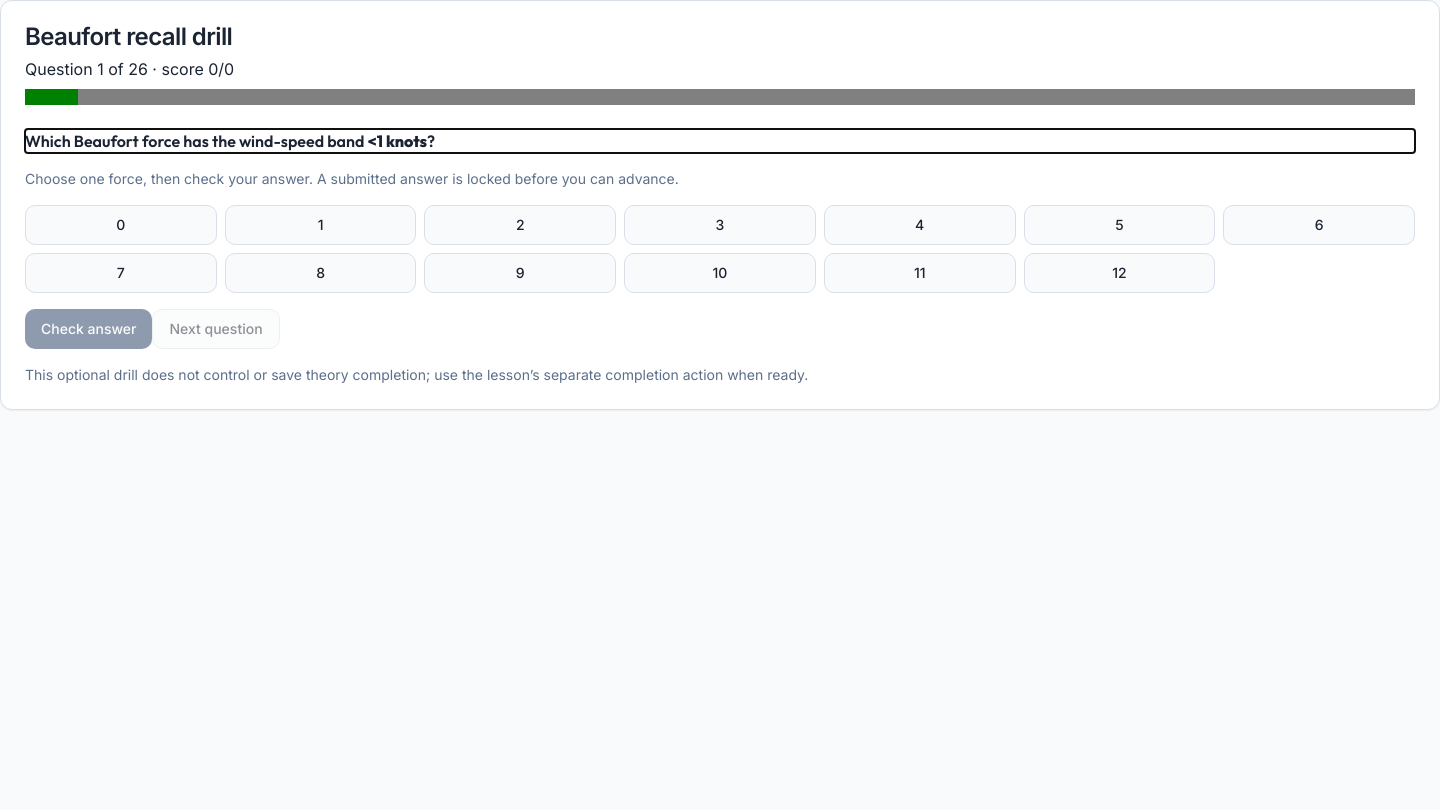
Test case: weather interactions › requires Beaufort drill submission before moving to another recall direction
Click the button "0" at {"x": 121, "y": 225}, box [25, 205, 217, 245]
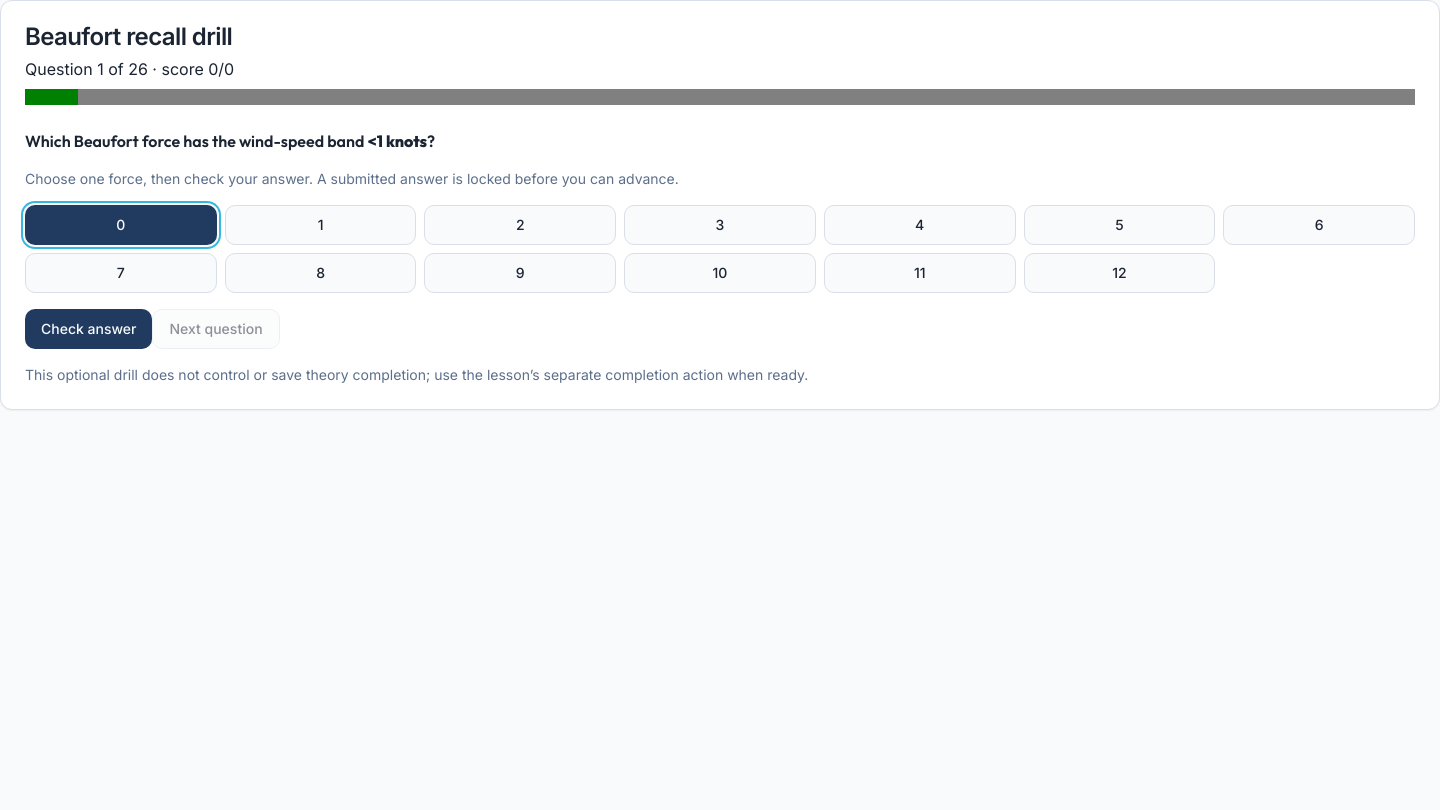
Check: the button "Next question" is disabled, box [152, 309, 280, 349]
Click the button "Check answer" at {"x": 89, "y": 329}, box [25, 309, 152, 349]
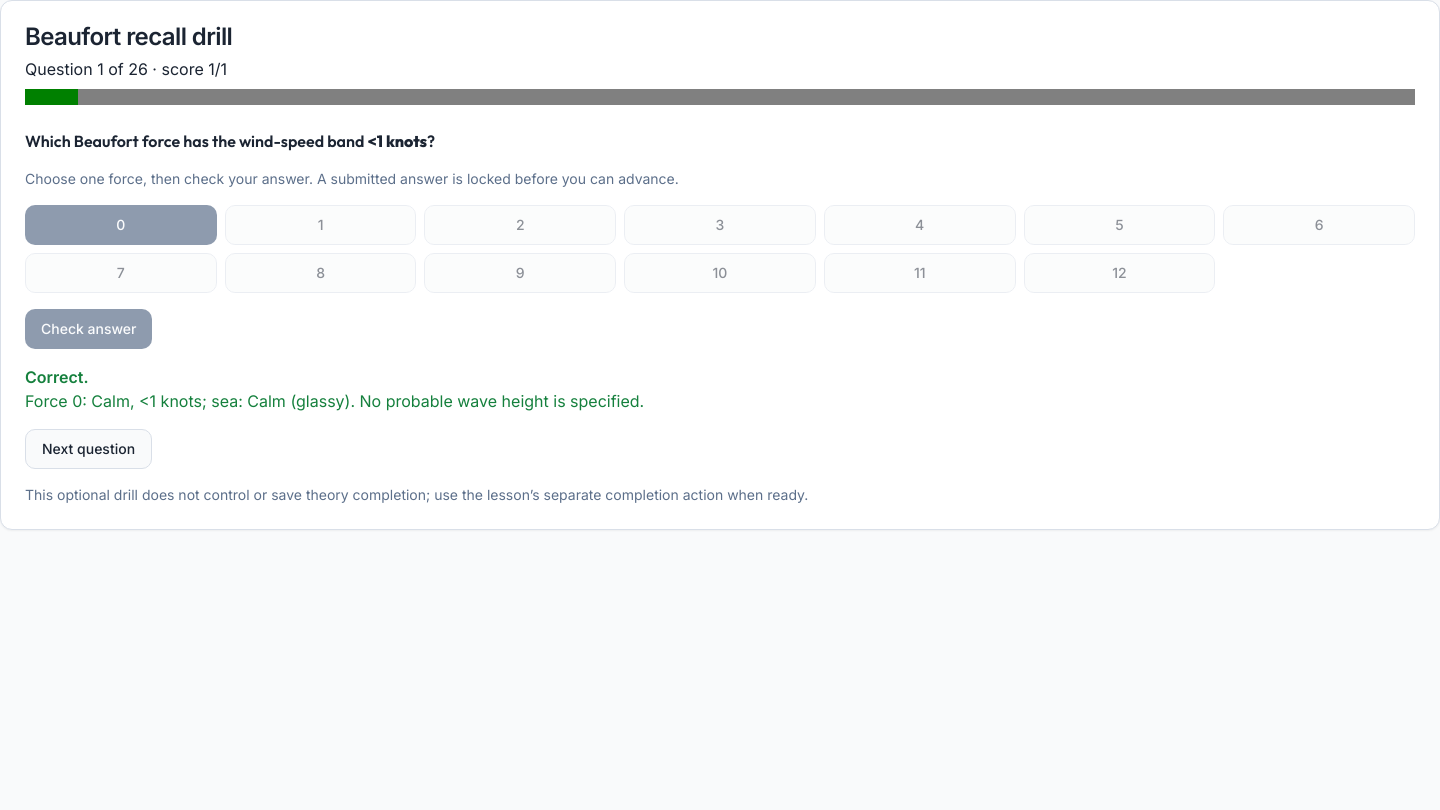
Check: the message shows "Correct", box [25, 367, 89, 387]
Click the button "Next question" at {"x": 89, "y": 449}, box [25, 429, 152, 469]
(page scrolled)
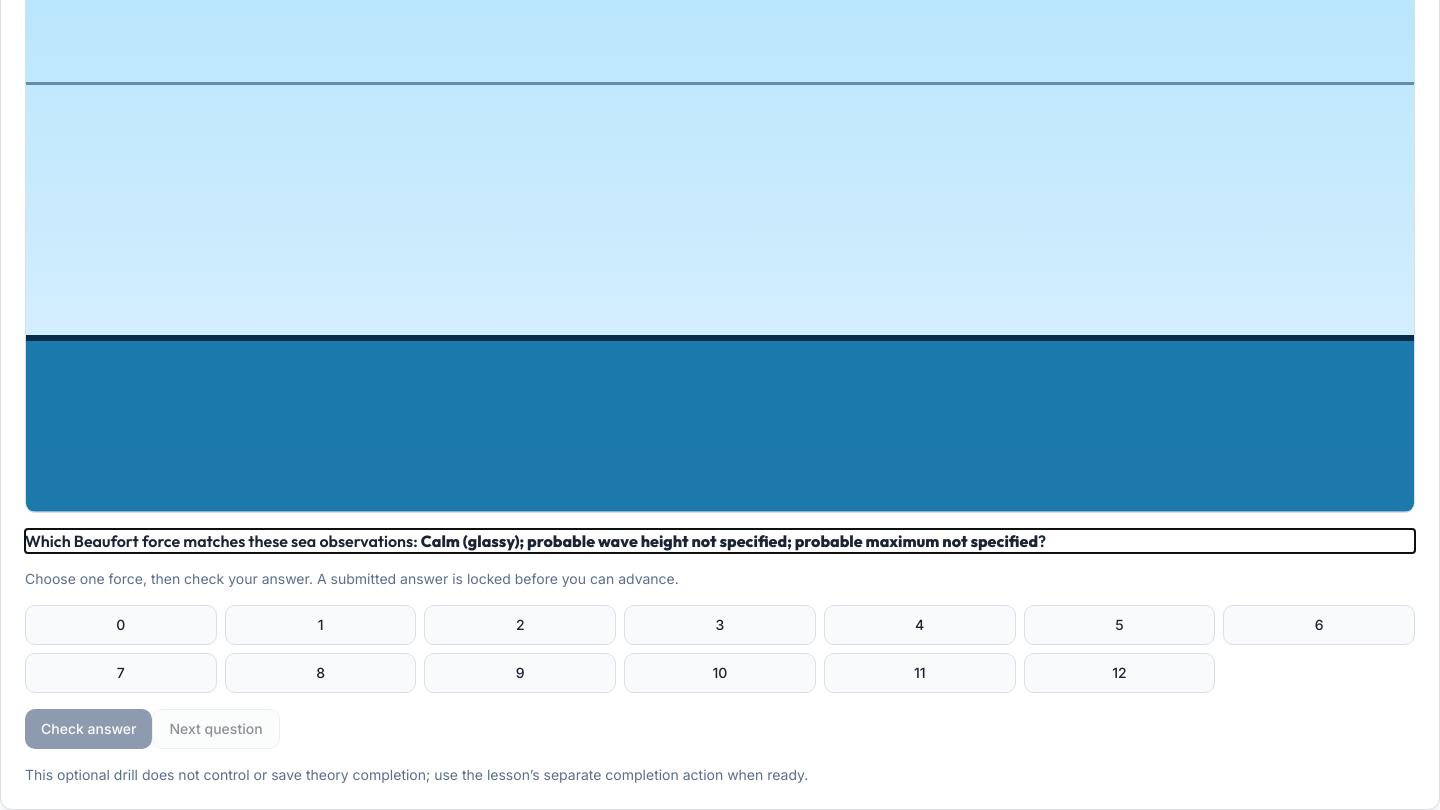
Check: the button "11" is shown, box [824, 652, 1016, 692]
Check: the message is gone
Check: the heading "Which Beaufort force" shows "sea observations", box [25, 530, 421, 550]
